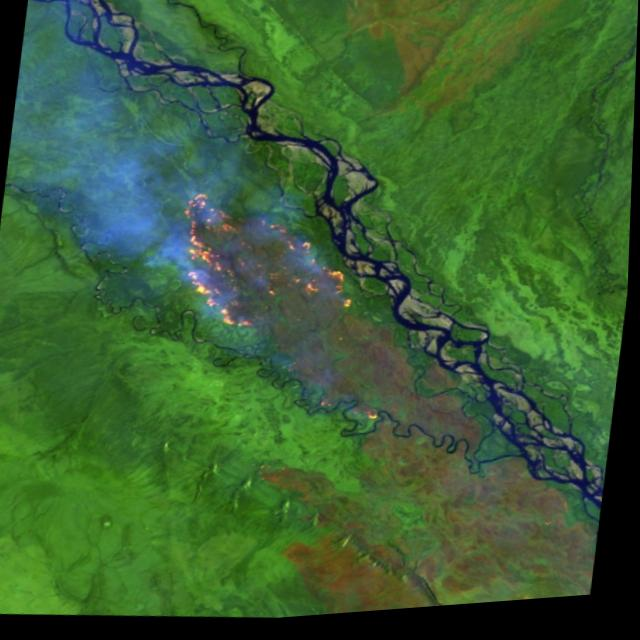fire: (164, 181, 375, 349)
